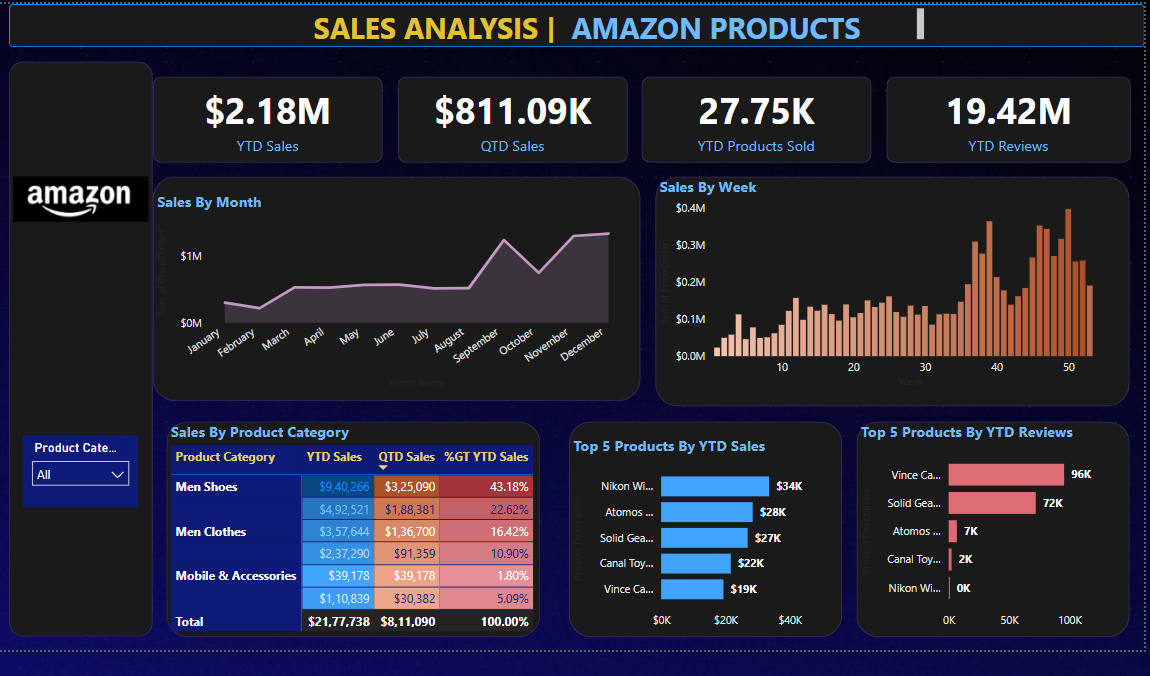

The dashboard page shown, as its layout file describes it:
{"tool":"powerbi","page":{"name":"Page 1","canvas":[1280,720],"ordinal":0},"visuals":[{"type":"shape","box":[16,0,1264,48],"z":0},{"type":"shape","box":[992,80,272,96],"z":0,"group":"g2"},{"type":"shape","box":[16,64,160,640],"z":500},{"type":"textbox","box":[288,0,752,48],"z":1000},{"type":"card","fields":{"Values":["Amazon_Data.YTD Reviews"]},"box":[992,80,272,96],"z":1000,"group":"g2"},{"type":"group","id":"g1","title":"Group 1","box":[176,80,800,96],"z":2000,"group":"g2"},{"type":"group","id":"g2","title":"Group 2","box":[176,80,1088,96],"z":3000},{"type":"shape","box":[176,80,256,96],"z":3000,"group":"g1"},{"type":"card","fields":{"Values":["Amazon_Data.YTD Sales"]},"box":[176,80,256,96],"z":4000,"group":"g1"},{"type":"shape","box":[176,192,543,250],"z":4000},{"type":"shape","box":[448,80,256,96],"z":5000,"group":"g1"},{"type":"areaChart","title":"Sales By Month","fields":{"Category":["Date Table.Month Name"],"Y":["Sum(Amazon_Data.Price(Dollar))"]},"box":[176,208,528,224],"z":5000},{"type":"card","fields":{"Values":["Amazon_Data.QTD Sales"]},"box":[448,80,256,96],"z":6000,"group":"g1"},{"type":"shape","box":[736,192,528,256],"z":6000},{"type":"shape","box":[720,80,256,96],"z":7000,"group":"g1"},{"type":"columnChart","title":"Sales By Week","fields":{"Category":["Date Table.Week"],"Y":["Sum(Amazon_Data.Price(Dollar))"]},"box":[736,192,512,240],"z":7000},{"type":"shape","box":[192,464,416,240],"z":8000},{"type":"card","fields":{"Values":["Amazon_Data.YTD Products Sold"]},"box":[720,80,256,96],"z":9000,"group":"g1"},{"type":"pivotTable","title":"Sales By Product Category","fields":{"Rows":["Amazon_Data.Product Category"],"Values":["Amazon_Data.YTD Sales1","Amazon_Data.QTD Sales","Amazon_Data.YTD Sales"]},"box":[192,464,416,240],"z":9000},{"type":"shape","box":[640,464,304,240],"z":10000},{"type":"shape","box":[960,464,304,240],"z":11000},{"type":"clusteredBarChart","title":"Top 5 Products By YTD Sales","fields":{"Category":["Amazon_Data.Product Description"],"Y":["Amazon_Data.YTD Sales"]},"box":[640,480,288,224],"z":12000},{"type":"clusteredBarChart","title":"Top 5 Products By YTD Reviews","fields":{"Category":["Amazon_Data.Product Description"],"Y":["Amazon_Data.YTD Reviews"]},"box":[960,464,288,240],"z":13000},{"type":"slicer","fields":{"Values":["Amazon_Data.Product Category"]},"box":[32,480,128,80],"z":14000},{"type":"image","box":[16,80,160,272],"z":14001}]}

Visuals, with their boxes on the page's 1280x720 design canvas (x1, y1, x2, y2). These are canvas units, not pixel positions in the 1150x676 screenshot, which may show the page scaled, cropped or inside an application window:
shape: detection(16, 0, 1280, 48)
shape: detection(992, 80, 1264, 176)
shape: detection(16, 64, 176, 704)
textbox: detection(288, 0, 1040, 48)
card - Amazon_Data.YTD Reviews: detection(992, 80, 1264, 176)
"Group 1" group: detection(176, 80, 976, 176)
"Group 2" group: detection(176, 80, 1264, 176)
shape: detection(176, 80, 432, 176)
card - Amazon_Data.YTD Sales: detection(176, 80, 432, 176)
shape: detection(176, 192, 719, 442)
shape: detection(448, 80, 704, 176)
"Sales By Month" areaChart: detection(176, 208, 704, 432)
card - Amazon_Data.QTD Sales: detection(448, 80, 704, 176)
shape: detection(736, 192, 1264, 448)
shape: detection(720, 80, 976, 176)
"Sales By Week" columnChart: detection(736, 192, 1248, 432)
shape: detection(192, 464, 608, 704)
card - Amazon_Data.YTD Products Sold: detection(720, 80, 976, 176)
"Sales By Product Category" pivotTable: detection(192, 464, 608, 704)
shape: detection(640, 464, 944, 704)
shape: detection(960, 464, 1264, 704)
"Top 5 Products By YTD Sales" clusteredBarChart: detection(640, 480, 928, 704)
"Top 5 Products By YTD Reviews" clusteredBarChart: detection(960, 464, 1248, 704)
slicer - Amazon_Data.Product Category: detection(32, 480, 160, 560)
image: detection(16, 80, 176, 352)
